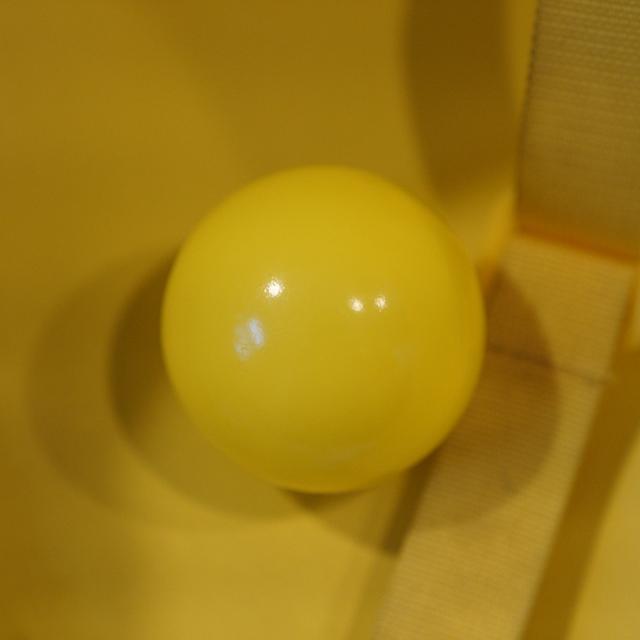Ball: (159, 167, 487, 498)
